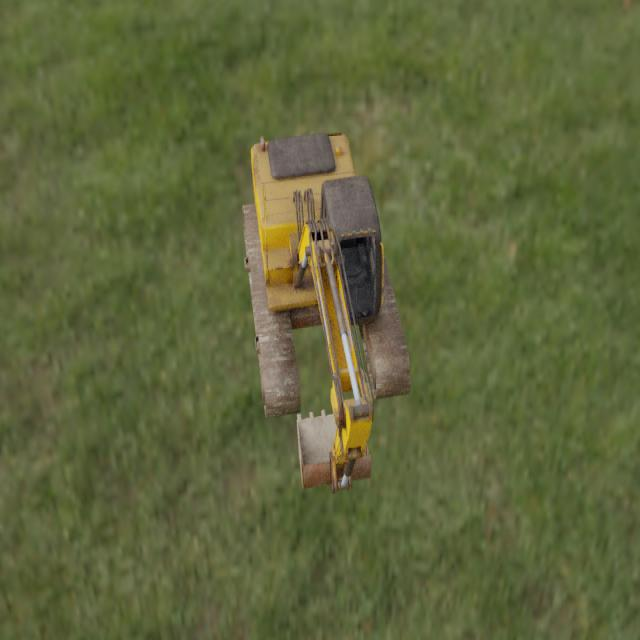excavator: (242, 132, 411, 493)
